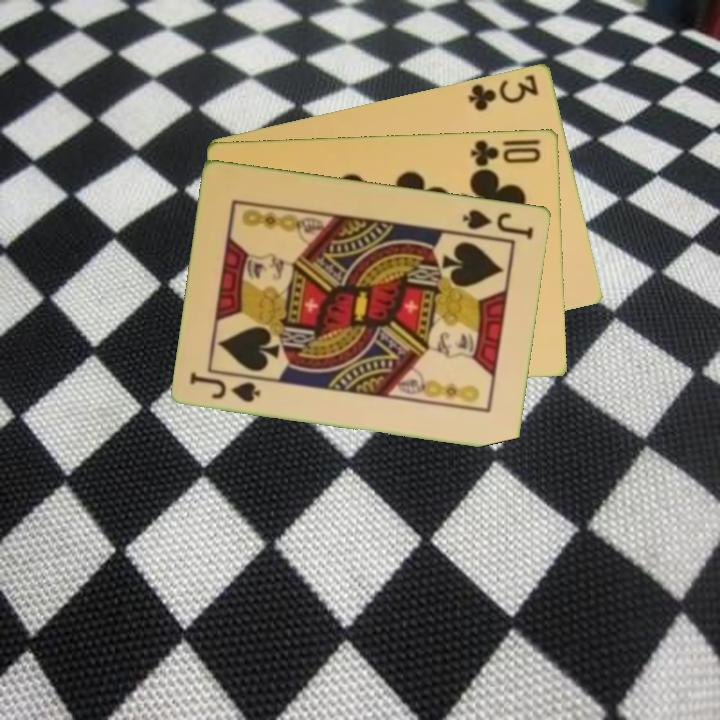10c: (467, 136, 544, 169)
3c: (465, 70, 542, 113)
Js: (459, 205, 537, 242), (187, 368, 264, 405)
